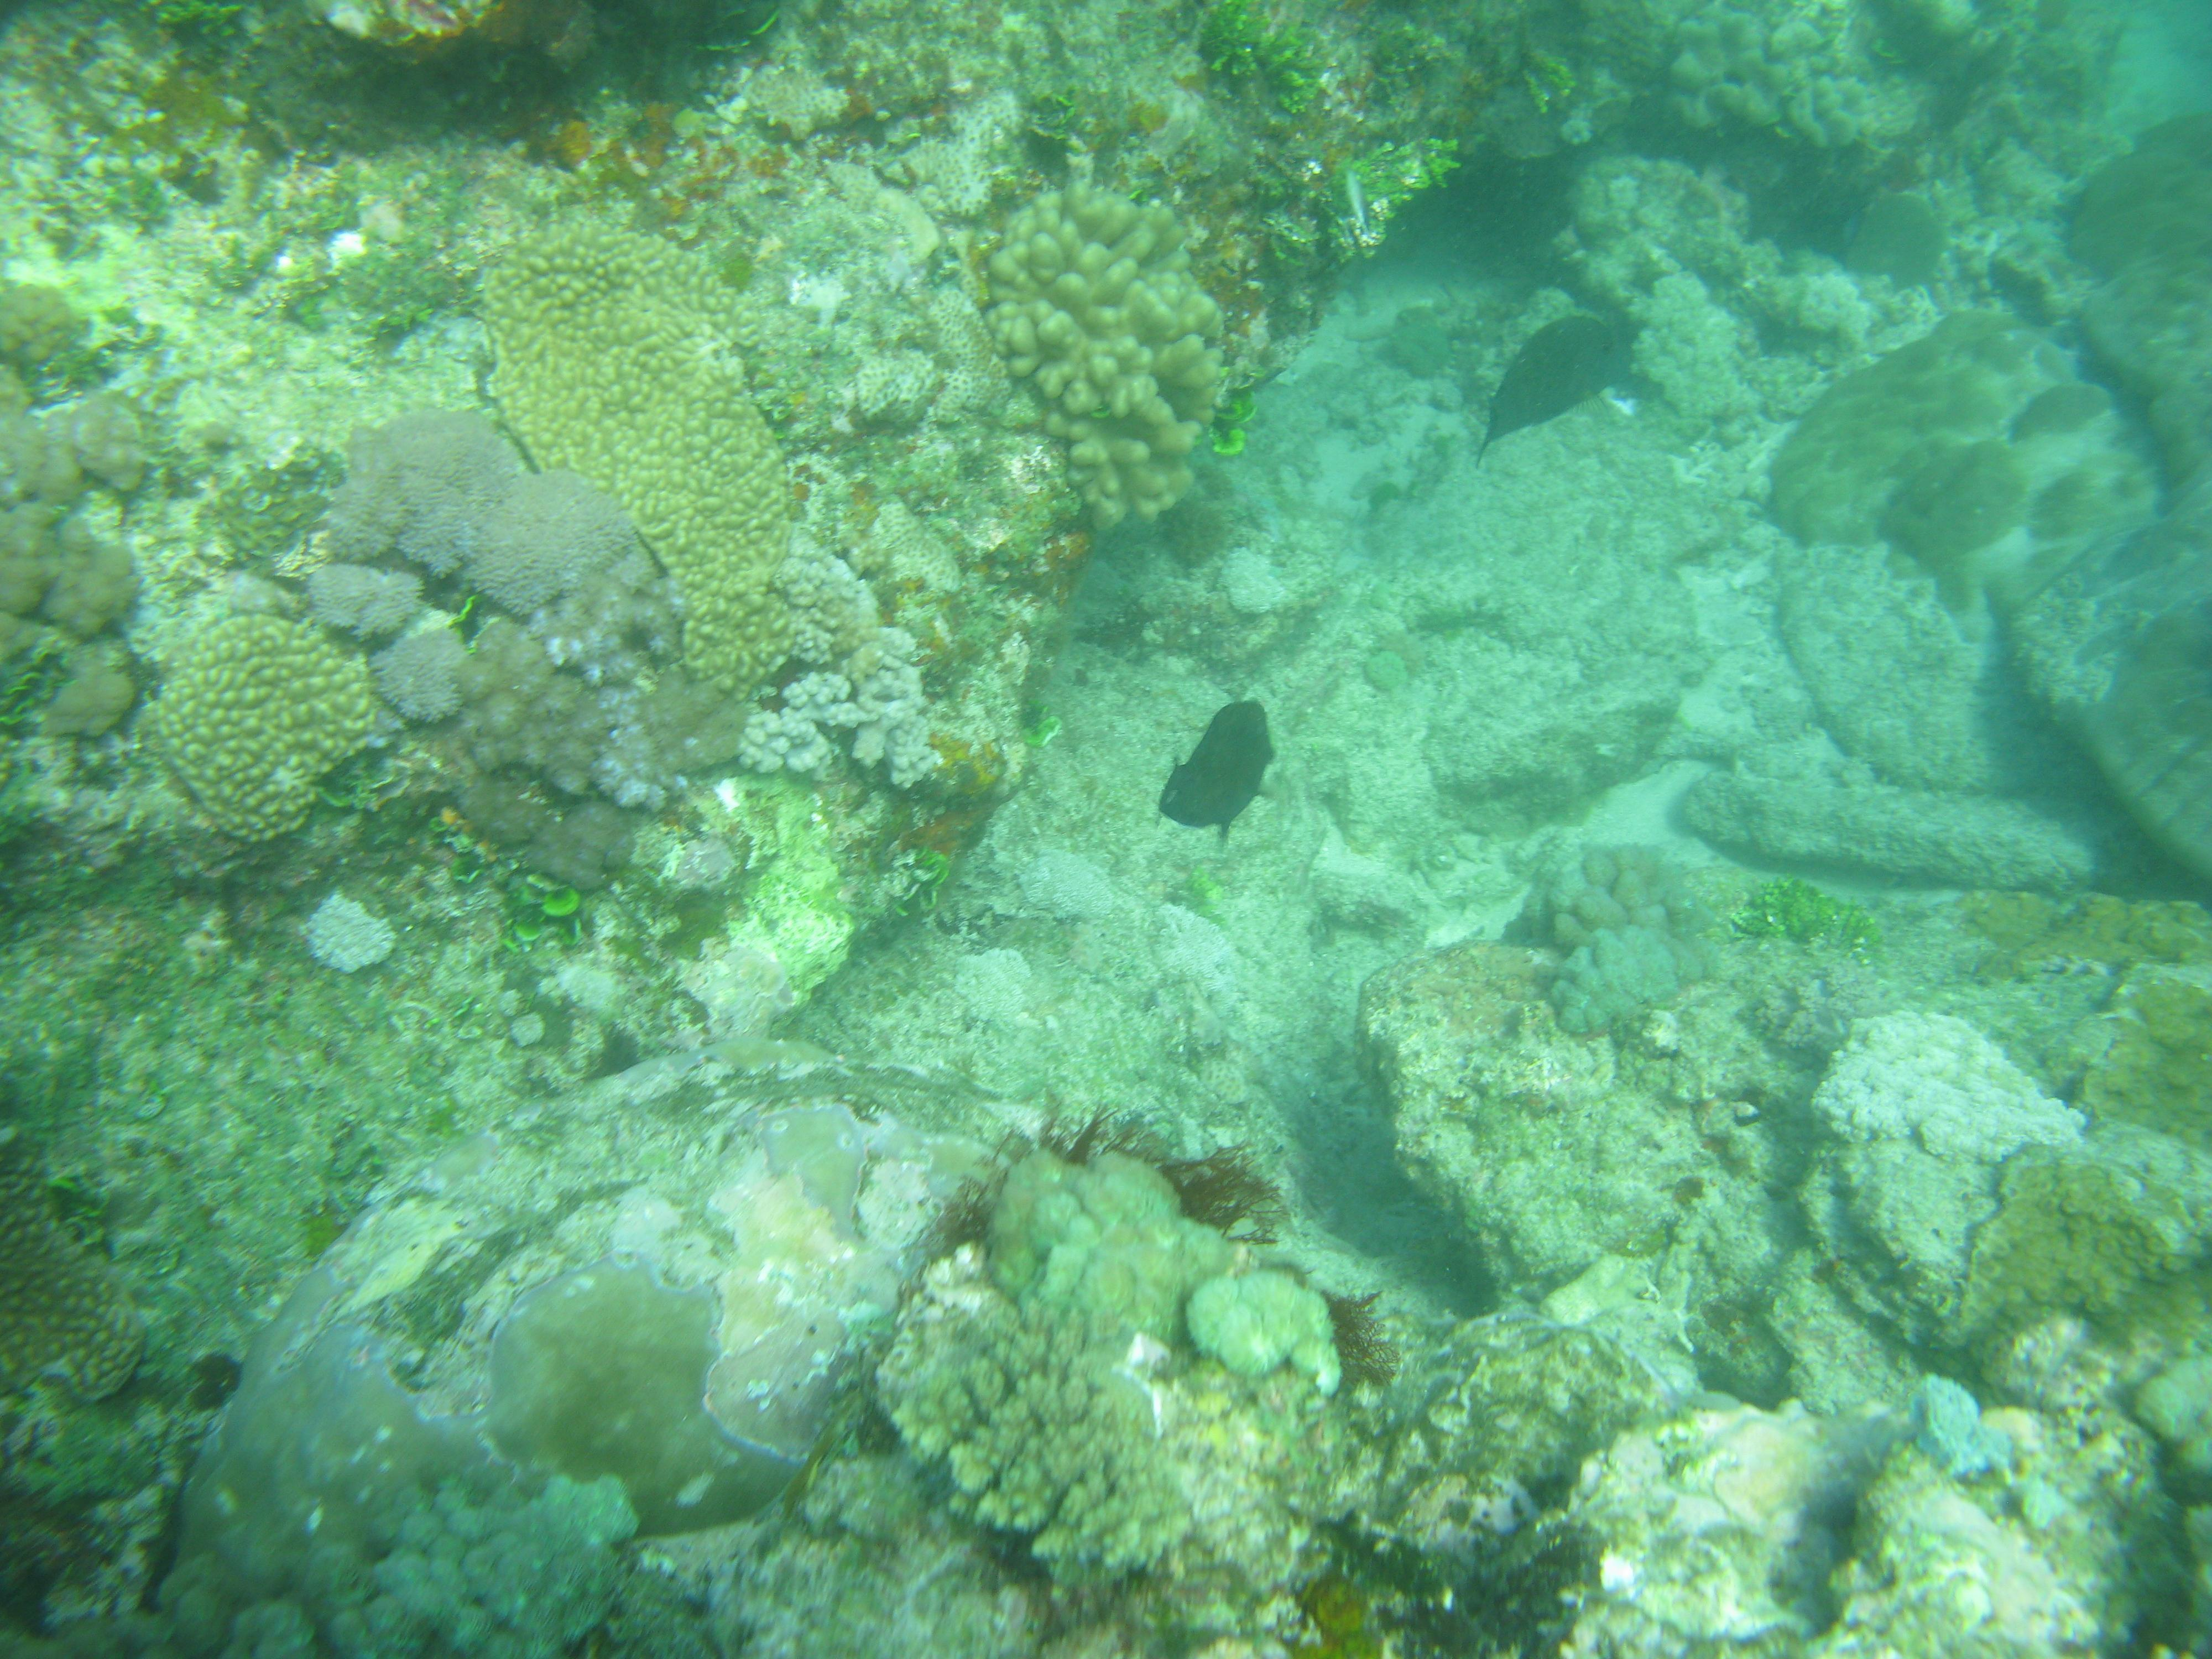Fish: (1050, 594, 1374, 913), (1440, 235, 1689, 551)
